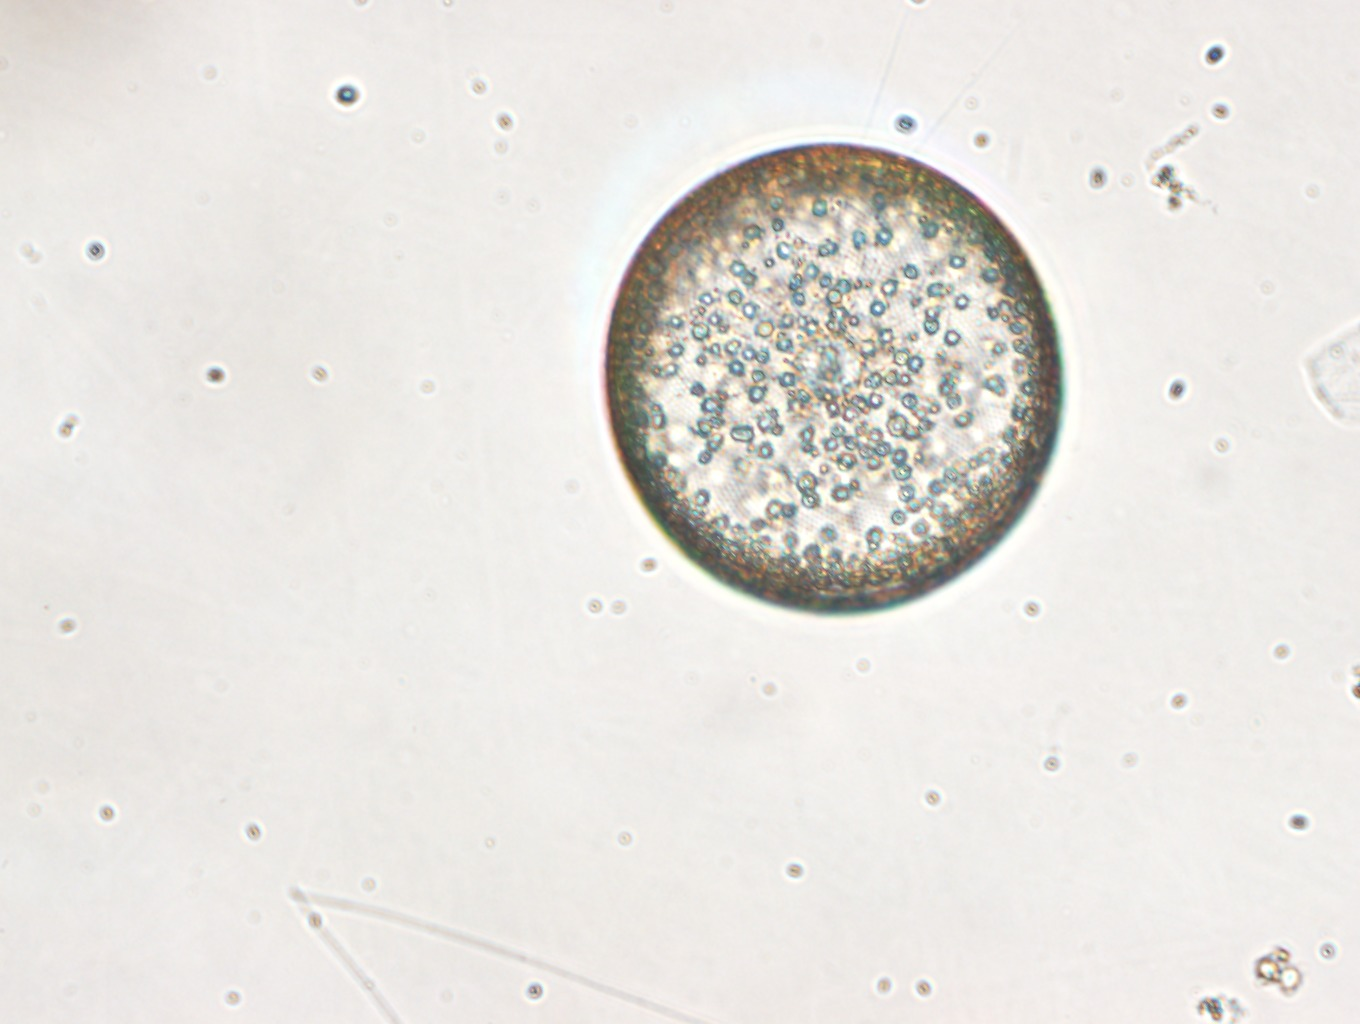coscinodiscus: (604, 138, 1065, 617)
